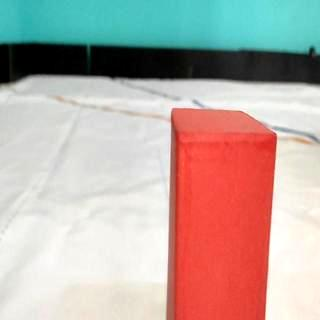redbox: (167, 105, 279, 320)
